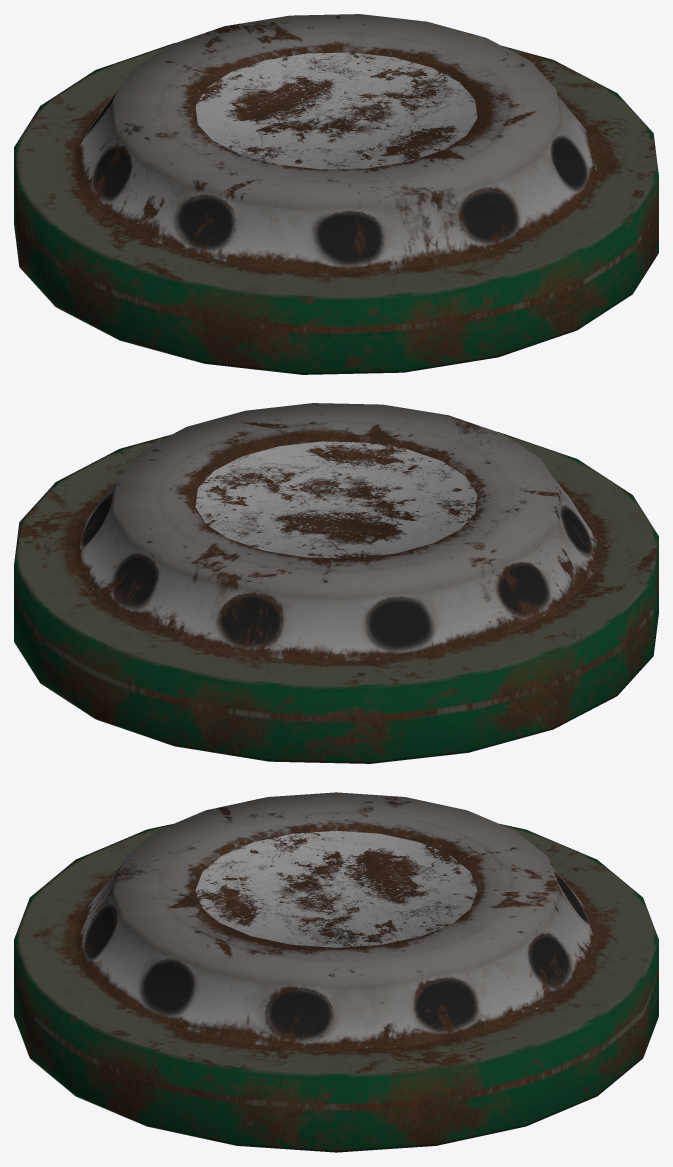
The model's file is MineBase.fbx.
The picture shows the model from 3 angles, top to bottom: view 1: azimuth 30°, elevation 25°; view 2: azimuth 150°, elevation 25°; view 3: azimuth 270°, elevation 25°; orthographic projection.
Parts seen in each view (by area): view 1: Mine_Lp; view 2: Mine_Lp; view 3: Mine_Lp.
Part boxes in pixels (box(x1,y1,x2,y2)): Mine_Lp: box(14, 14, 658, 374); Mine_Lp: box(14, 403, 658, 763); Mine_Lp: box(14, 792, 658, 1152).
Bounding box in the file's own units: 200 × 44.42 × 200.
